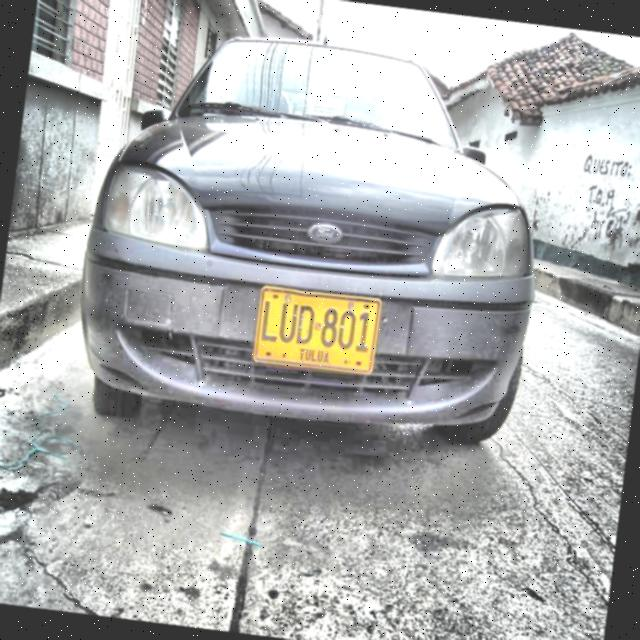plate: (252, 287, 381, 375)
